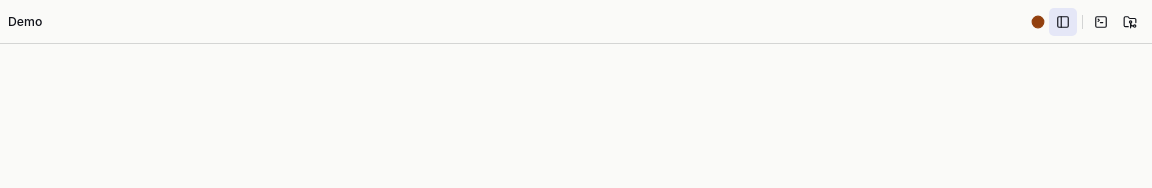
Scenario: WorkbenchTitlebar › lists the runtime connection state as menu items, not loose rows
Press the mouse on the button named "Runtime connection" at (1038, 22), box [1027,11,1048,32]
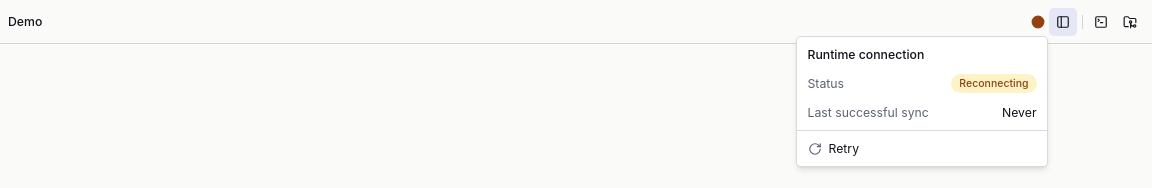
Result: the menu item "Retry" is shown at [808,141,859,156]
